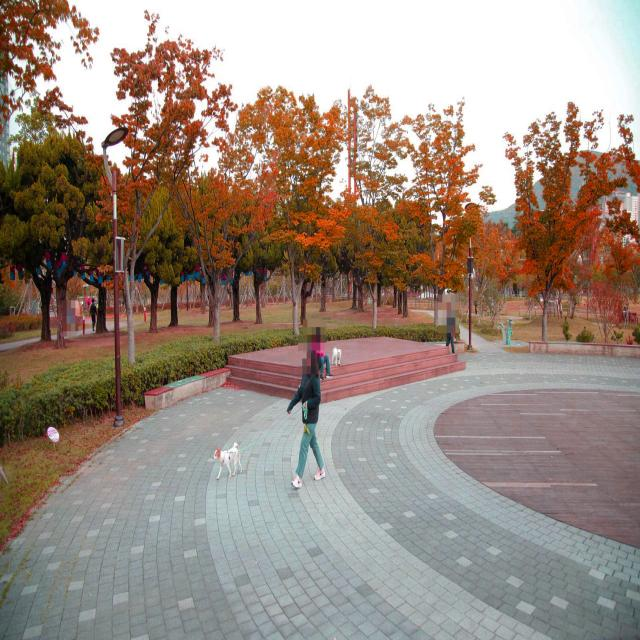Dog: (331, 346, 342, 366)
Leashed_Dog: (212, 399, 306, 482)
